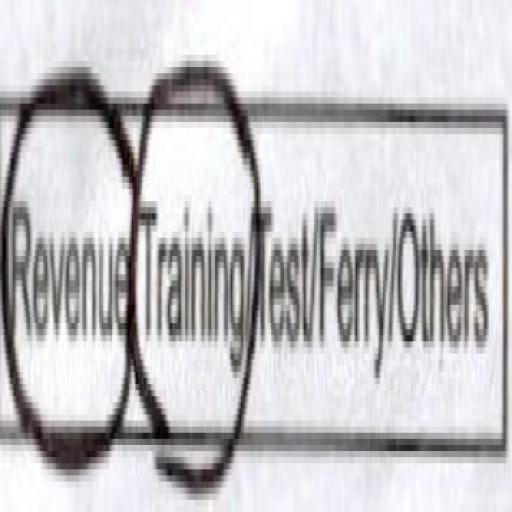check: (0, 27, 130, 512), (134, 18, 256, 512)
